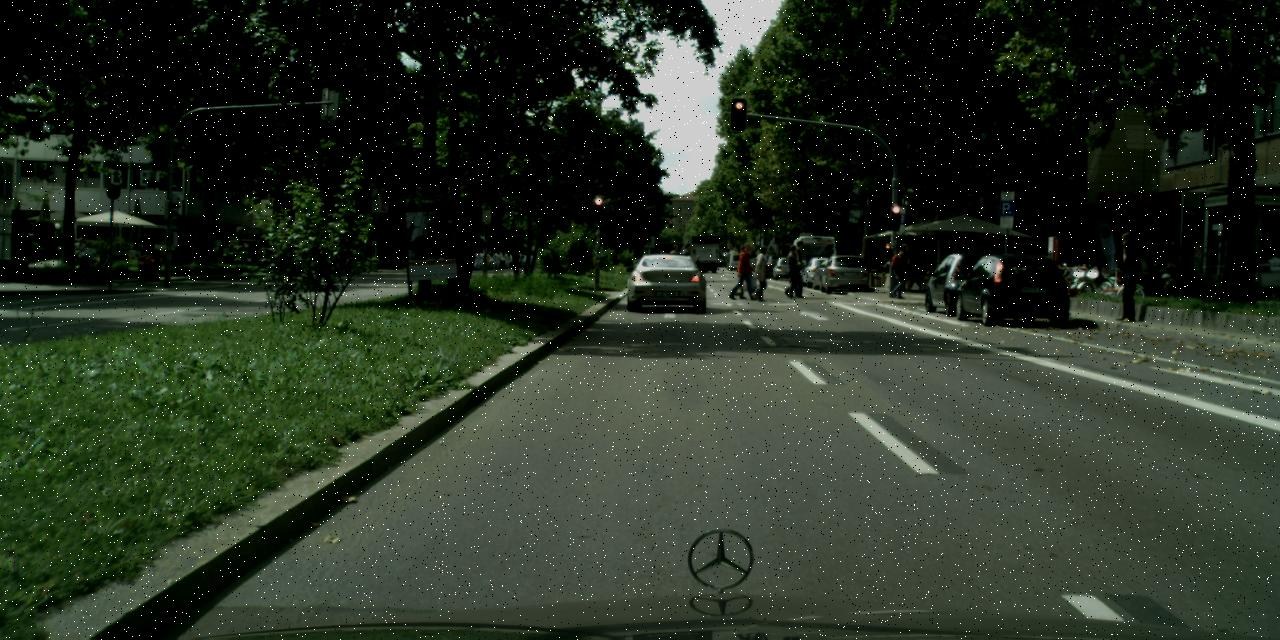ped: (1110, 231, 1146, 321), (734, 242, 756, 298), (788, 240, 810, 296), (889, 243, 910, 298), (749, 246, 770, 300), (780, 244, 800, 297), (739, 246, 756, 288), (679, 242, 693, 279), (666, 244, 680, 278), (74, 237, 86, 268), (693, 254, 701, 274)
